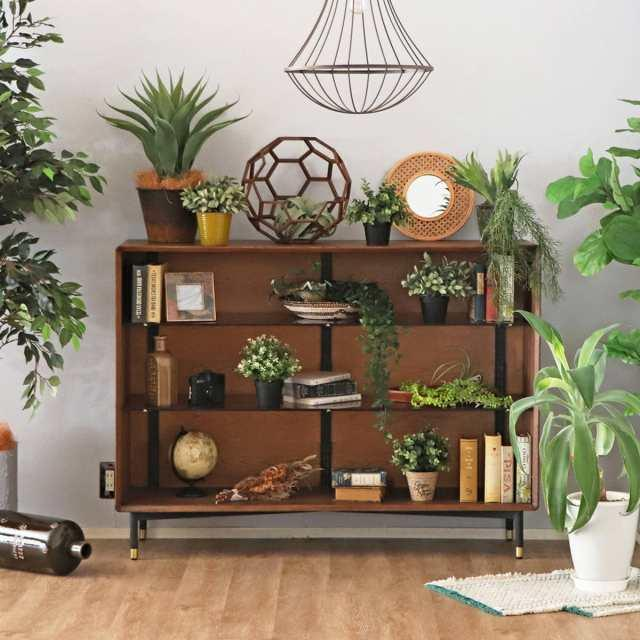vintage shelf: (113, 241, 532, 557)
